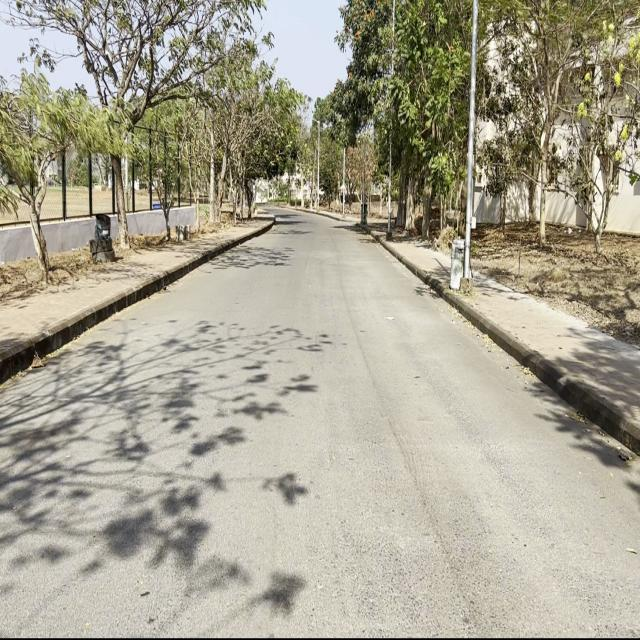Road: (3, 207, 636, 628)
